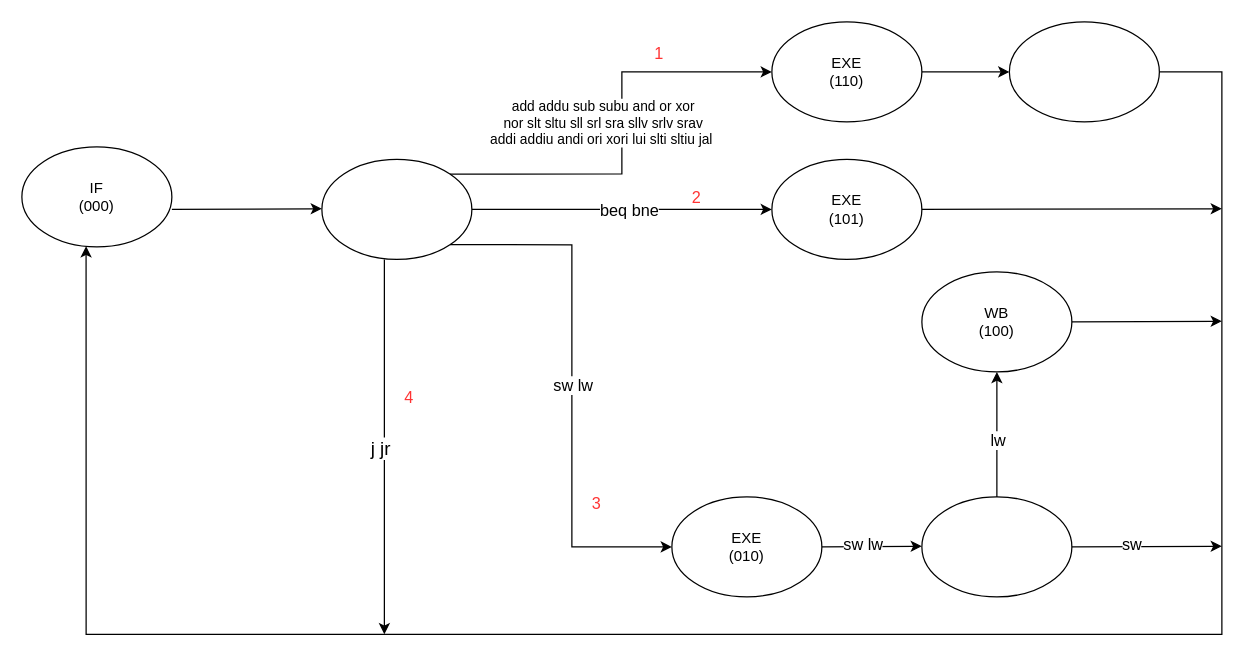
Image size: 1254x666. Some labels were removed from this diagram. Each missing label, with the box of its shape:
ID (001): (321, 158, 472, 259)
MEM (011): (921, 496, 1072, 597)
WB (111): (1008, 21, 1159, 122)
